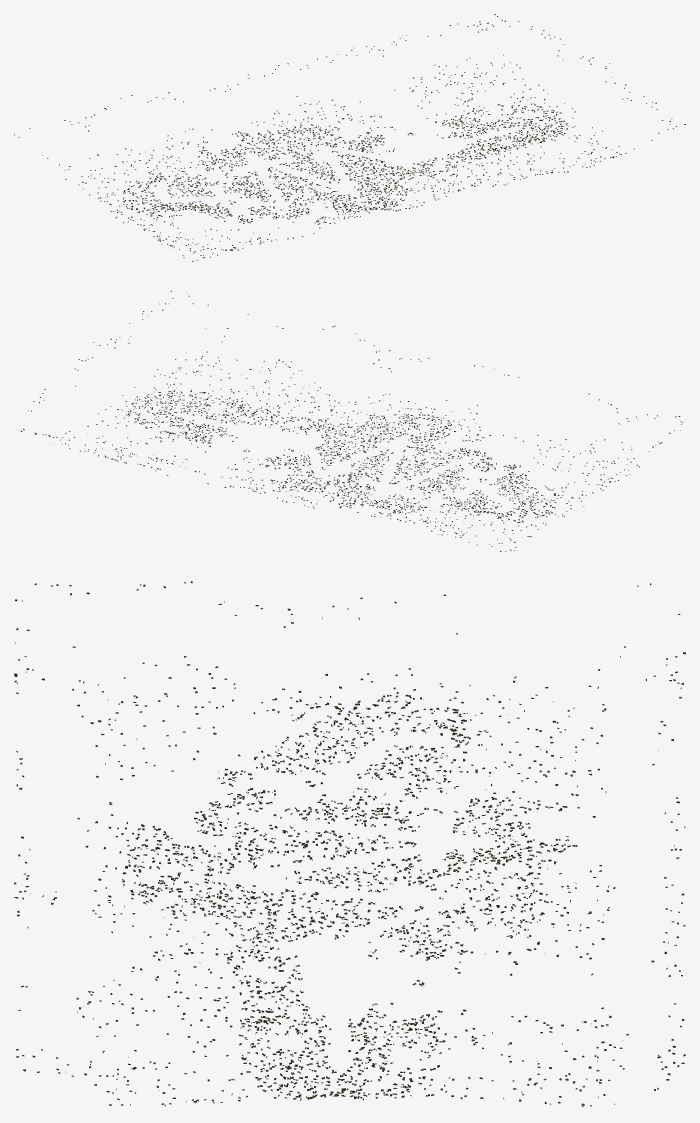
The model's file is SM_Art_Cover_L_NoSafeHarbor_GrassBlades.gltf.
3 views of the same model, one above another, from view 1: azimuth 30°, elevation 25°; view 2: azimuth 150°, elevation 25°; view 3: azimuth 270°, elevation 25° (orthographic). The views are drawn at different scales.
Parts seen in each view (by area): view 1: SM_Art_Cover_L_NoSafeHarbor_GrassBlades; view 2: SM_Art_Cover_L_NoSafeHarbor_GrassBlades; view 3: SM_Art_Cover_L_NoSafeHarbor_GrassBlades.
Boxes of the visible parts, x1,y1,x2,y2 form: SM_Art_Cover_L_NoSafeHarbor_GrassBlades: (14,14,685,261); SM_Art_Cover_L_NoSafeHarbor_GrassBlades: (20,290,685,551); SM_Art_Cover_L_NoSafeHarbor_GrassBlades: (14,581,685,1106).
Size of the model in its own units: 344 by 30.09 by 199.
1 material, 1 textured.
